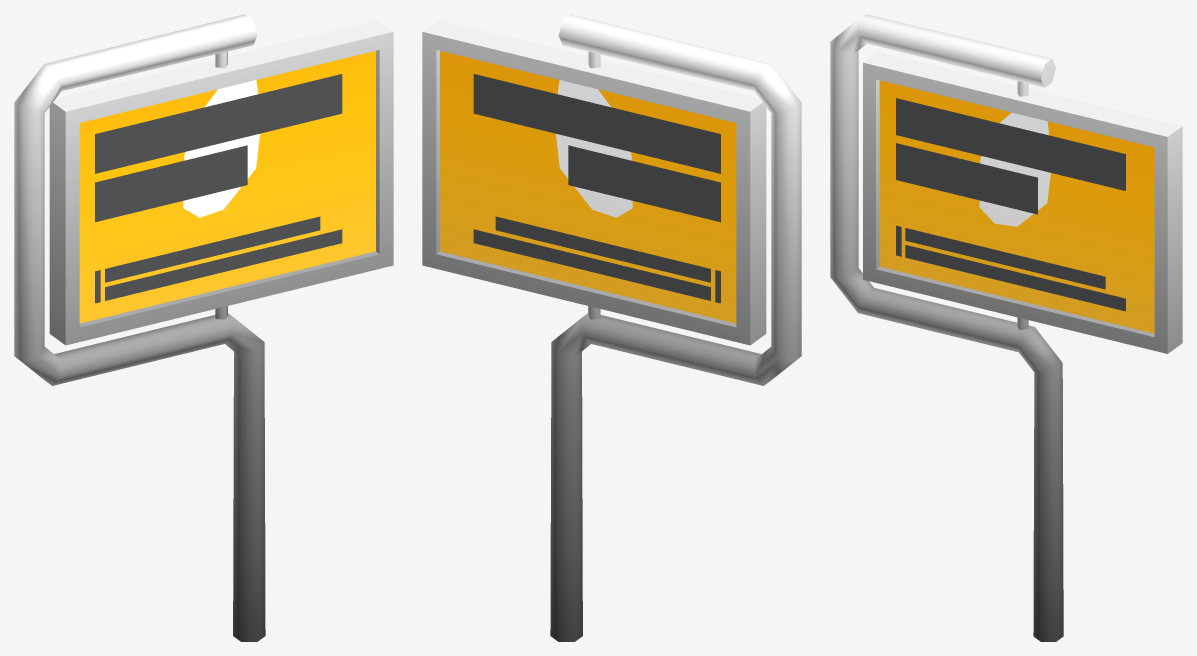
File: Billboard_05.glb
3 renders of one model, left to right at view 1: azimuth 30°, elevation 25°; view 2: azimuth 150°, elevation 25°; view 3: azimuth 330°, elevation 25°, orthographic. The views are drawn at different scales.
Parts seen in each view (by area): view 1: Billboard_05; view 2: Billboard_05; view 3: Billboard_05.
Boxes of the visible parts, x1,y1,x2,y2 form: Billboard_05: [14, 14, 393, 641]; Billboard_05: [422, 14, 801, 641]; Billboard_05: [830, 14, 1182, 641].
Size of the model in its own units: 1.31 by 2.1 by 0.1.
1 material, 1 textured.
